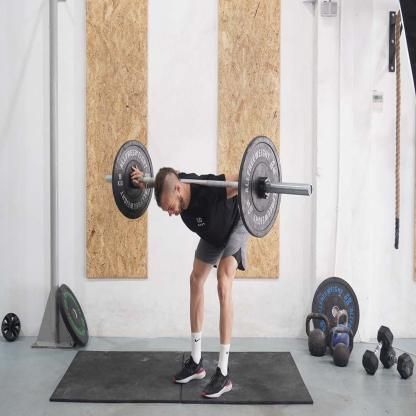barbell: (106, 139, 312, 240)
